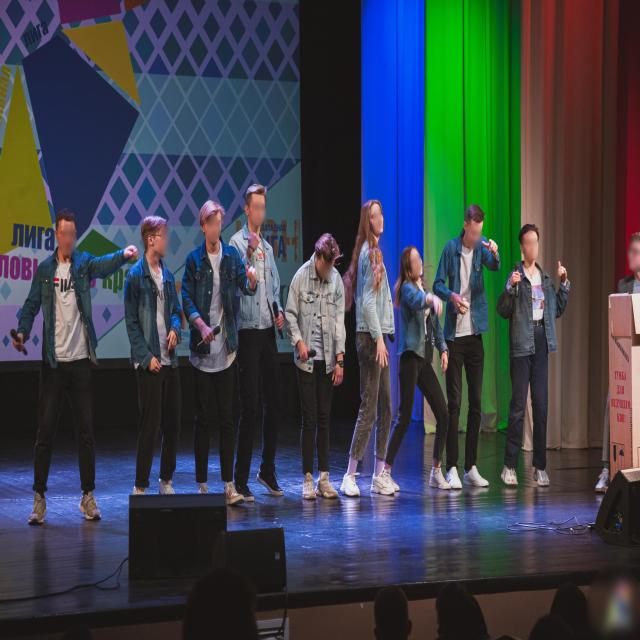Person: (27, 204, 112, 528), (497, 214, 568, 511), (436, 200, 504, 504), (341, 196, 402, 499), (293, 220, 355, 511), (128, 193, 184, 510), (193, 184, 240, 506), (387, 238, 444, 502), (240, 177, 284, 507), (603, 223, 640, 304)
